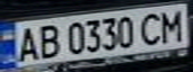0: (115, 12, 139, 48), (63, 19, 87, 55)
3: (81, 17, 103, 53), (100, 16, 121, 52)
A: (9, 24, 42, 63)
B: (33, 21, 63, 60)
C: (136, 10, 166, 46)
M: (154, 7, 187, 43)
